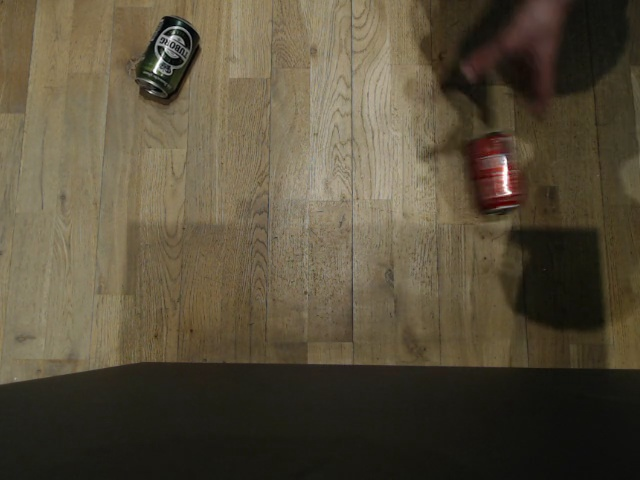beer: (132, 13, 203, 102)
cola: (463, 129, 527, 216)
